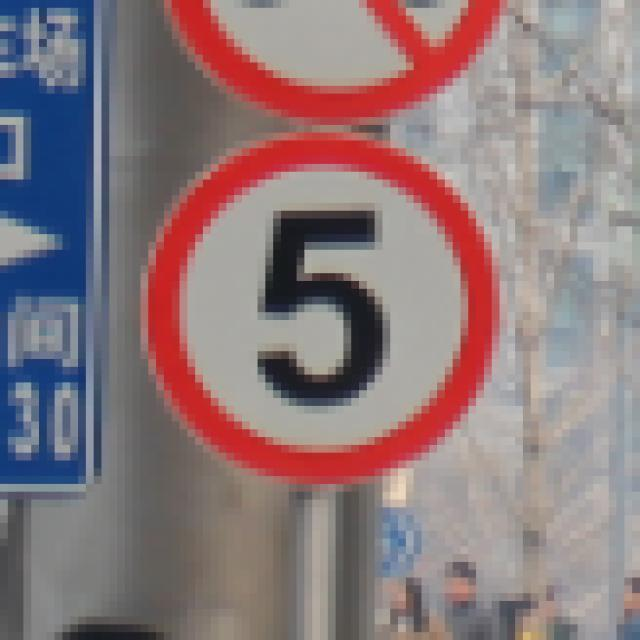Speed: (113, 123, 532, 496)
